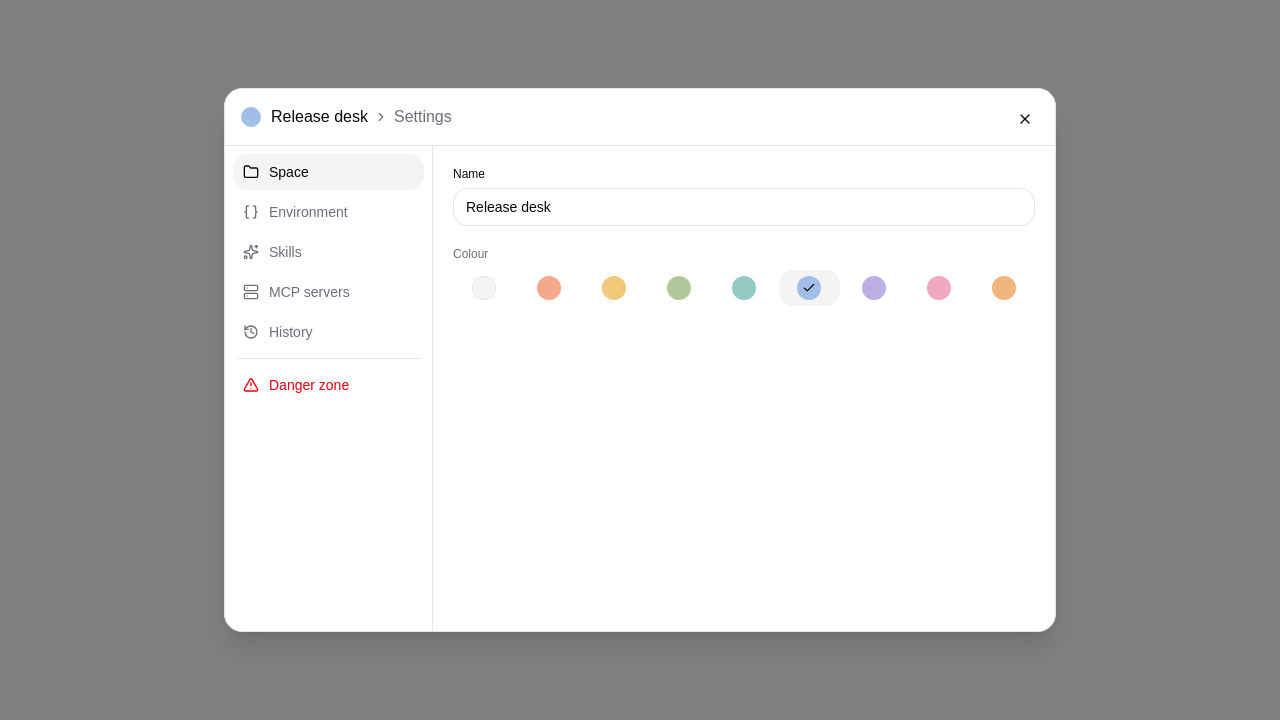
Test: SpaceSettingsDialog MCP servers › says the listing failed instead of inviting a first server
Step 1. Click the tab "MCP servers" → (328, 292), box [233, 274, 424, 310]
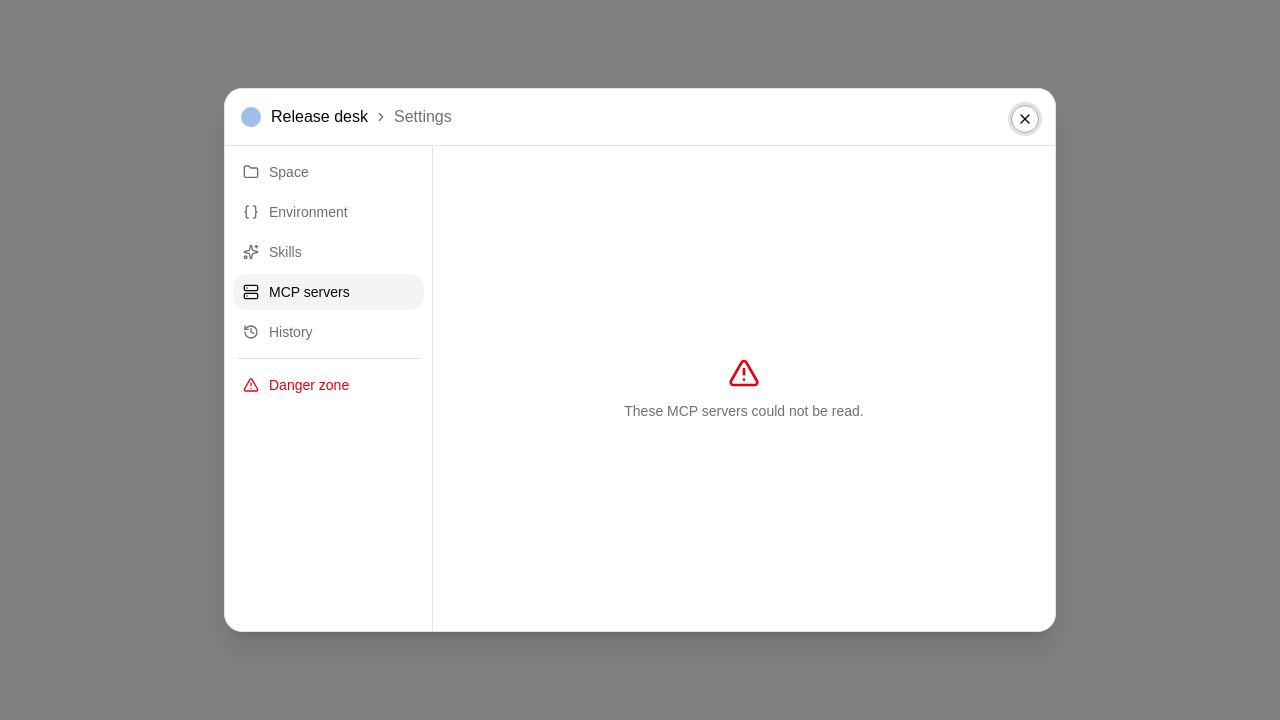
Check: the text "These MCP servers could not be read." is shown, box [624, 400, 864, 420]
